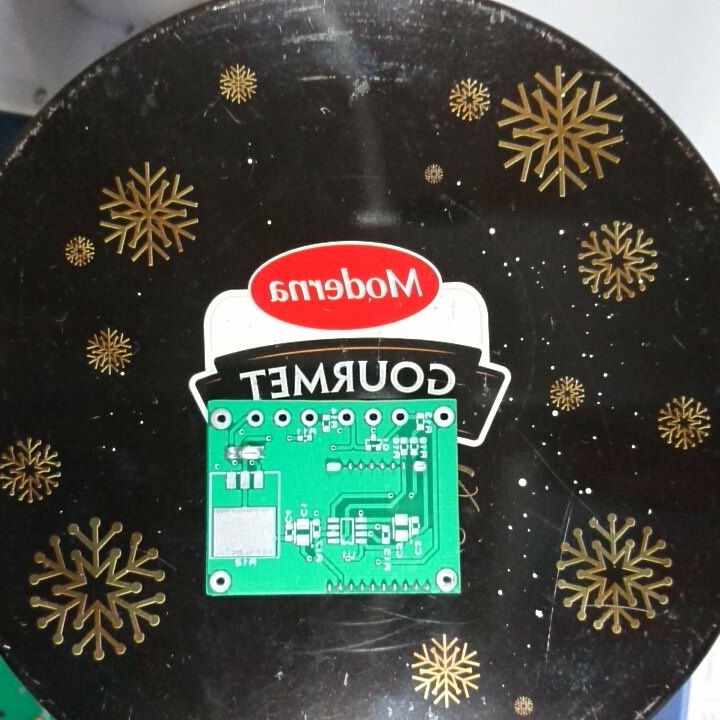F: (208, 569, 234, 595), (434, 566, 458, 593), (209, 407, 234, 432), (431, 406, 456, 430), (299, 407, 321, 429), (244, 407, 266, 429), (362, 408, 383, 429), (272, 407, 292, 429), (389, 407, 410, 427), (336, 407, 357, 426)
P: (238, 442, 264, 462), (322, 458, 343, 474), (411, 457, 430, 473)
